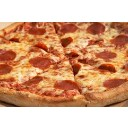pepperonipizza: (2, 22, 128, 106)
